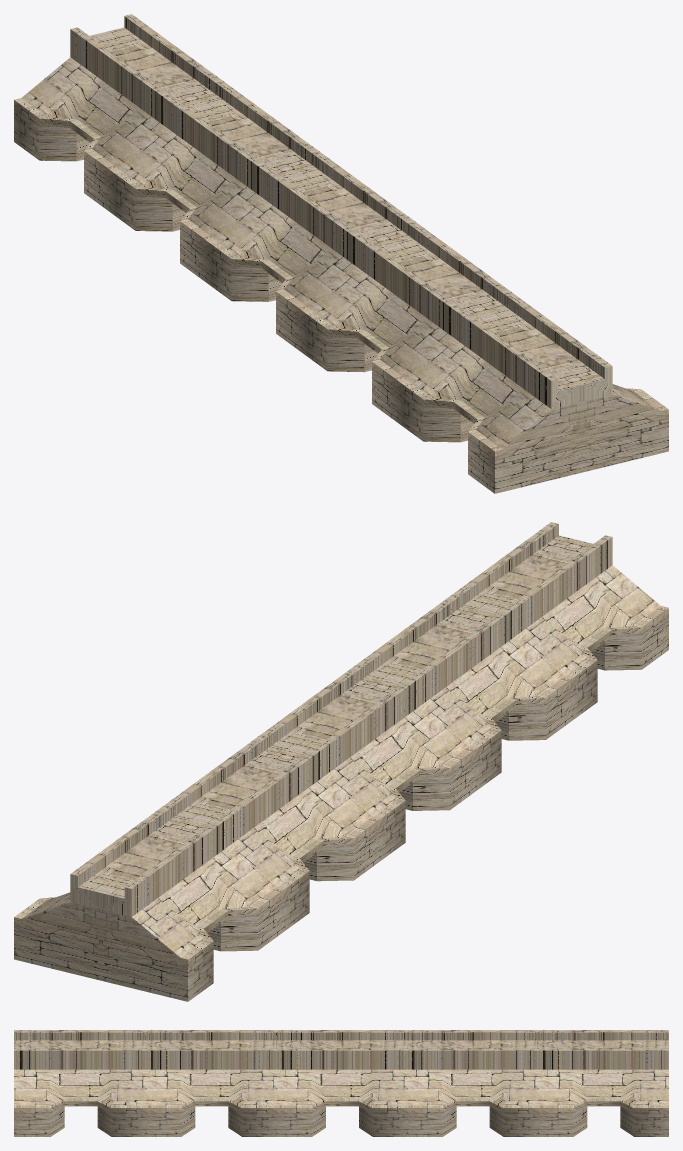
File: 都江堰.fbx
The picture shows the model from 3 angles, top to bottom: view 1: azimuth 30°, elevation 25°; view 2: azimuth 150°, elevation 25°; view 3: azimuth 270°, elevation 25°; orthographic projection. The views are drawn at different scales.
Visible parts, largest first — view 1: Box008; view 2: Box008; view 3: Box008.
Part boxes in pixels (x1,y1,x2,y2): Box008: [14, 14, 668, 493]; Box008: [14, 522, 668, 1001]; Box008: [14, 1030, 668, 1136].
Bounding box in the file's own units: 9433 × 5135 × 45104.
